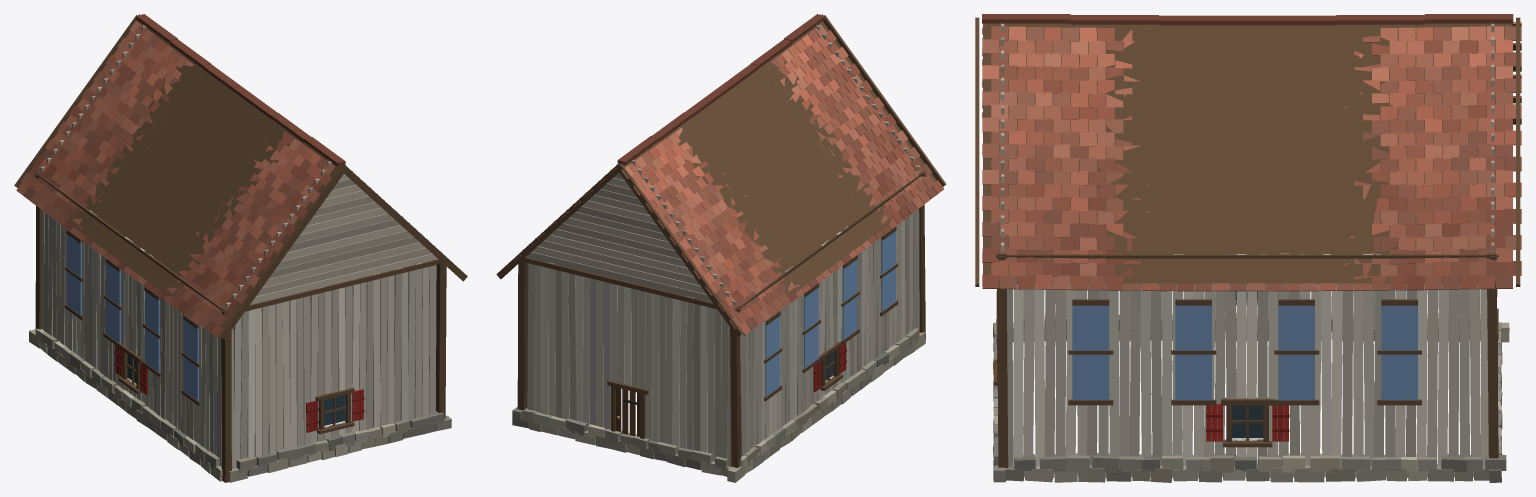
Rendered from capela_1.glb.
3 views of the same model, side by side, from view 1: azimuth 30°, elevation 25°; view 2: azimuth 150°, elevation 25°; view 3: azimuth 270°, elevation 25° (orthographic). The views are drawn at different scales.
Visible parts, largest first — view 1: Madeira, Telhado, Pedra, Vidro; view 2: Madeira, Telhado, Pedra, Vidro; view 3: Madeira, Telhado, Pedra, Vidro.
Part boxes in pixels (x1,y1,x2,y2): Madeira: (14, 14, 467, 482); Telhado: (16, 14, 345, 337); Pedra: (29, 328, 451, 482); Vidro: (67, 234, 345, 425); Madeira: (496, 14, 946, 467); Telhado: (501, 14, 943, 335); Pedra: (512, 328, 925, 482); Vidro: (765, 231, 895, 396); Madeira: (975, 17, 1520, 480); Telhado: (982, 14, 1521, 291); Pedra: (993, 313, 1509, 482); Vidro: (1072, 291, 1417, 438).
Size of the model in its own units: 9.29 by 10.63 by 13.38.
